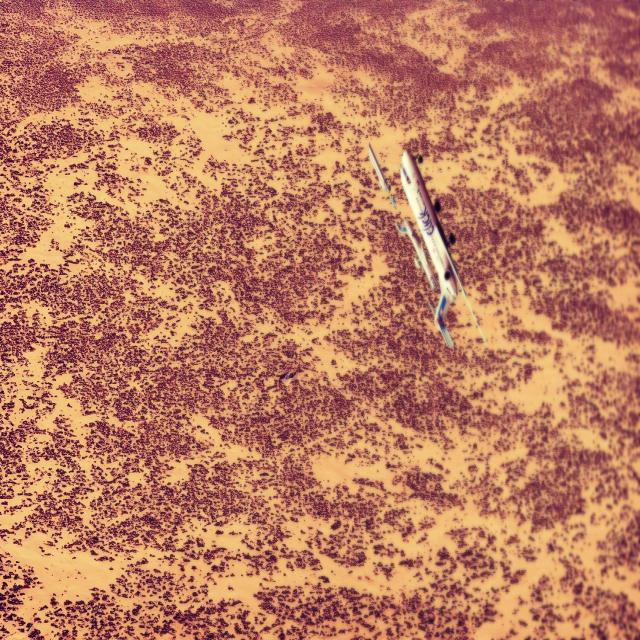airplane: (368, 142, 487, 350)
